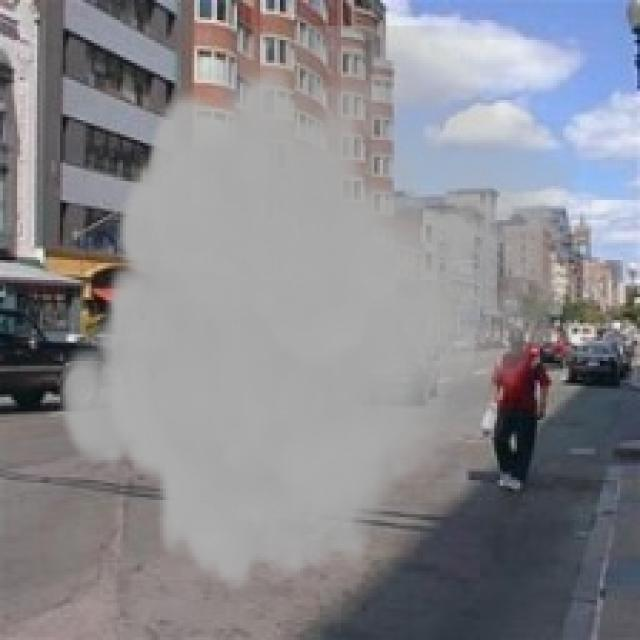smoke: (54, 26, 597, 594)
